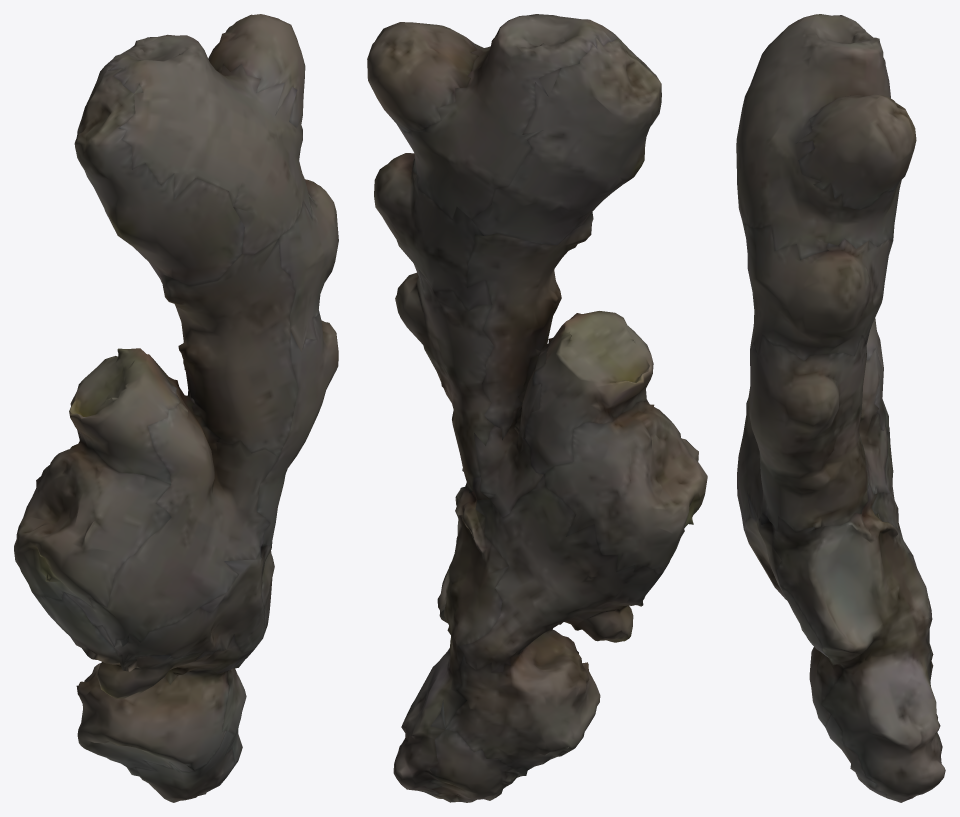
The model's file is food_ginger_01.glb.
3 renders of one model, left to right at view 1: azimuth 30°, elevation 25°; view 2: azimuth 150°, elevation 25°; view 3: azimuth 270°, elevation 25°, orthographic. The views are drawn at different scales.
Visible parts, largest first — view 1: food_ginger_01; view 2: food_ginger_01; view 3: food_ginger_01.
Part boxes in pixels (bbox=[...]): food_ginger_01: bbox=[14, 14, 338, 802]; food_ginger_01: bbox=[367, 14, 707, 802]; food_ginger_01: bbox=[736, 14, 945, 802].
Bounding box in the file's own units: 0.2399 × 0.5746 × 0.1474.
Materials: 1 (1 with a texture image).
